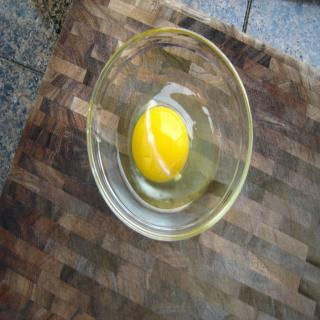Egg: (118, 69, 223, 212)
